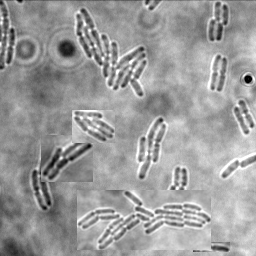Dividing: (238, 99, 255, 128), (209, 54, 222, 90), (217, 56, 228, 92), (7, 27, 17, 64), (193, 242, 230, 252), (175, 167, 189, 189)
Microcolony: (77, 190, 211, 250), (76, 7, 147, 98), (41, 135, 93, 182), (137, 117, 168, 180), (32, 135, 57, 211), (72, 110, 115, 143), (208, 1, 229, 42)
Rod: (233, 106, 251, 135), (222, 157, 240, 178), (174, 166, 183, 187)
